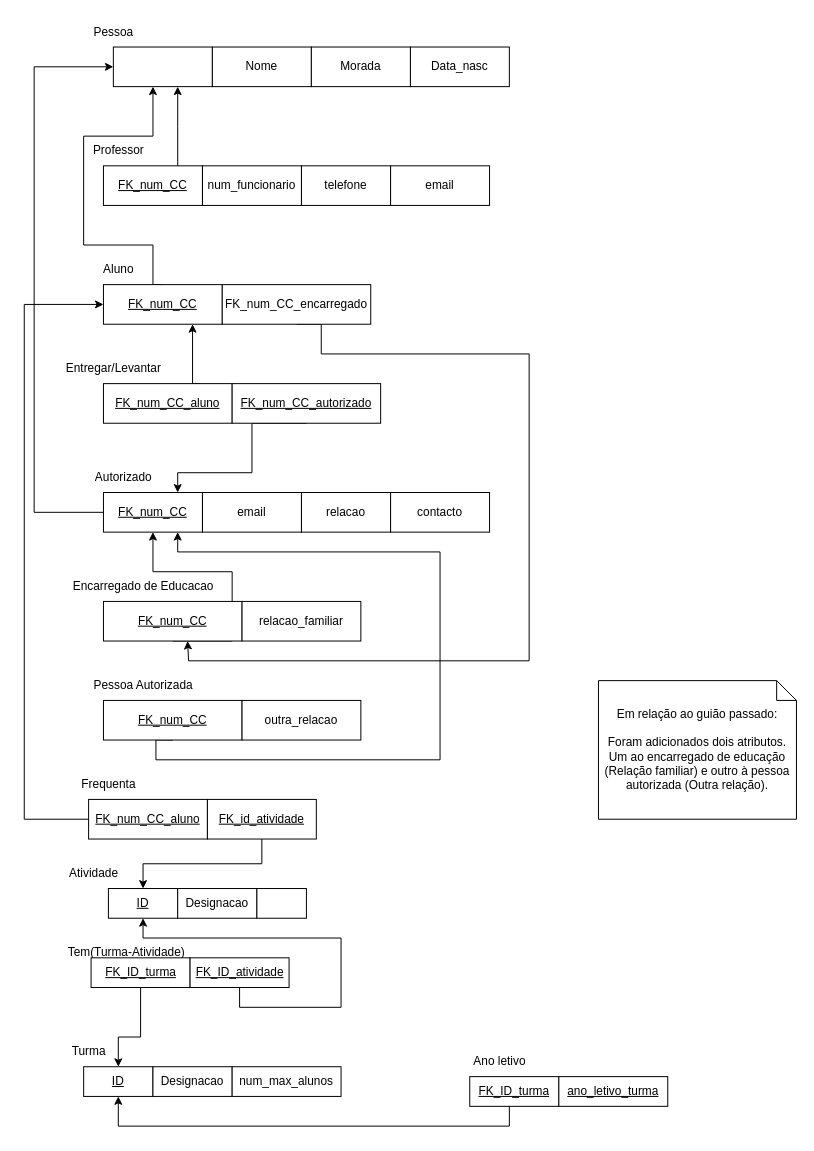
This 814x1151 diagram has some shape labels left out. Here are the shapes that lost their labels. From the top down, the centre of each, then its label:
At point (162, 66): "num_CC".
At point (281, 903): "Custo".
